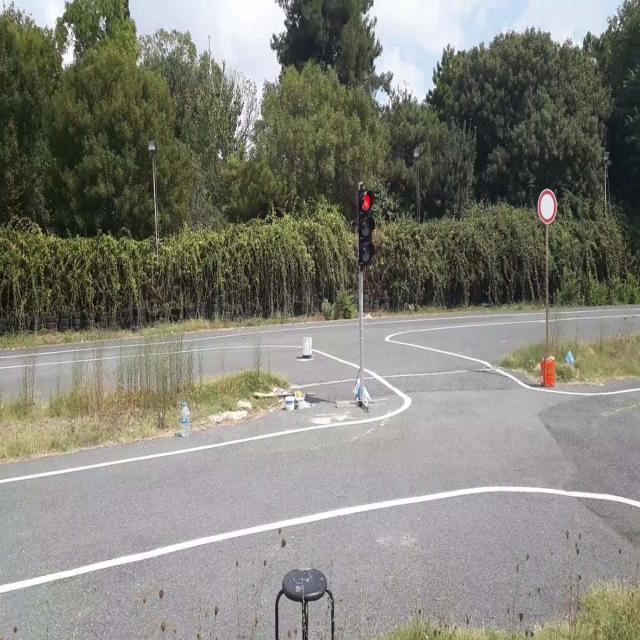kirmizi: (358, 189, 373, 264)
